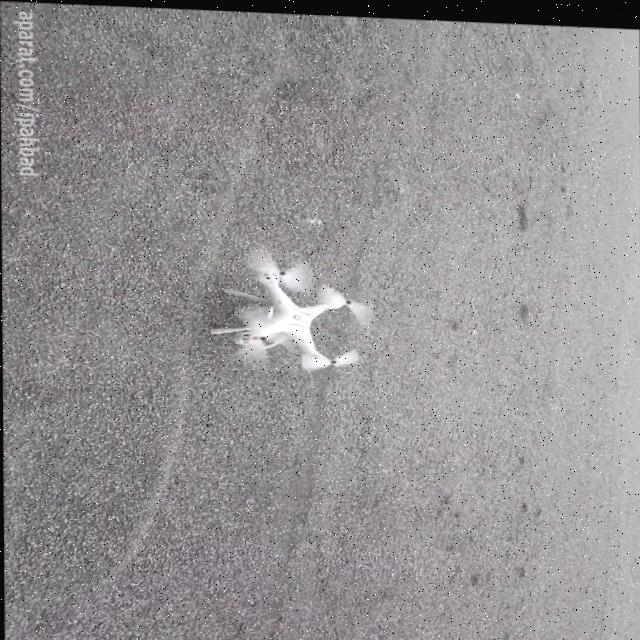drone: (213, 243, 375, 371)
